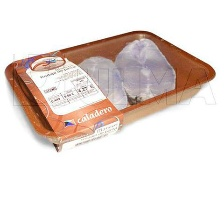plastic_box: (0, 23, 221, 156)
